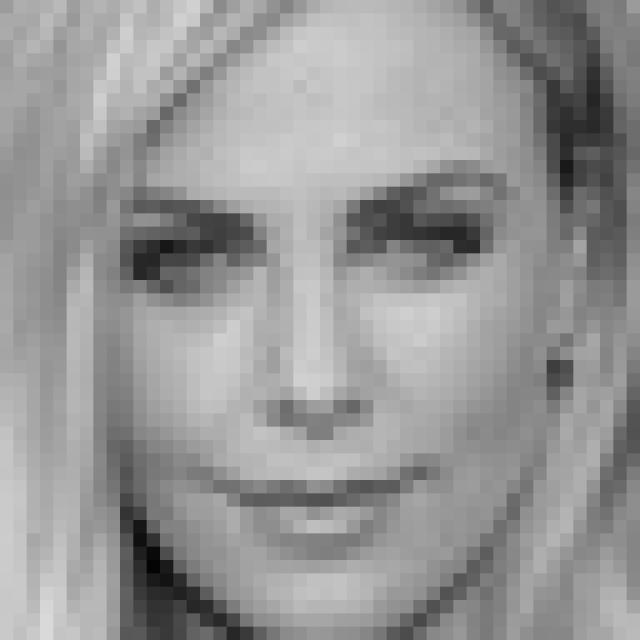neutral: (116, 156, 528, 568)
